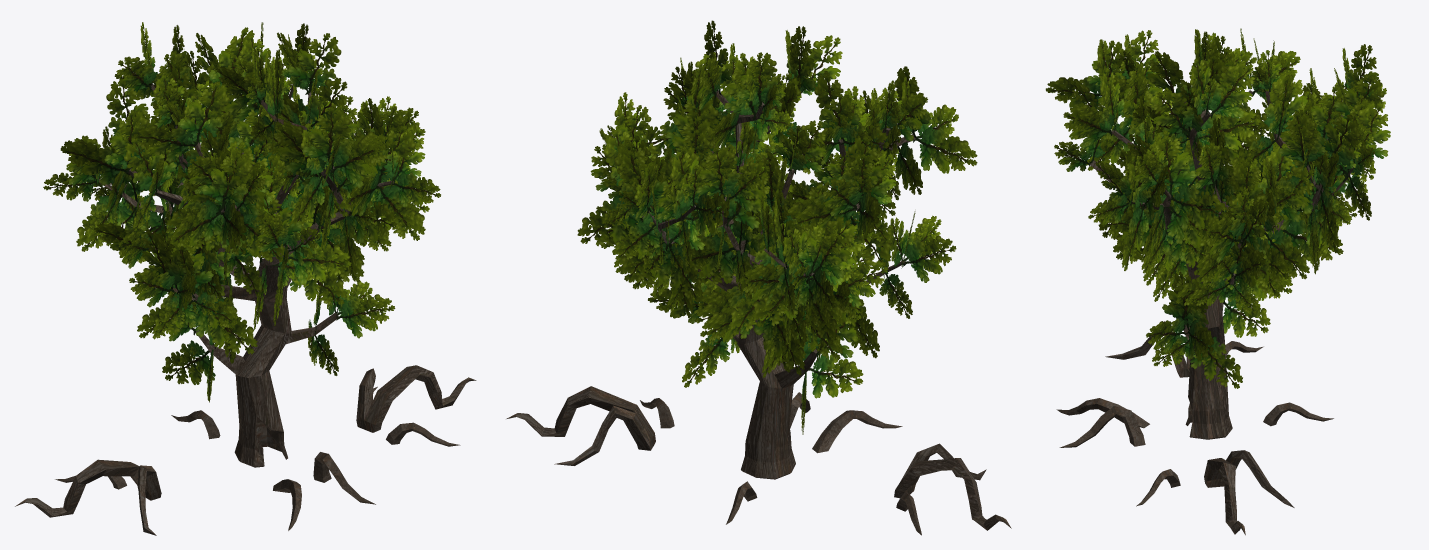
The model's file is oaktree.fbx.
3 renders of one model, left to right at view 1: azimuth 30°, elevation 25°; view 2: azimuth 150°, elevation 25°; view 3: azimuth 270°, elevation 25°, orthographic. The views are drawn at different scales.
Visible parts, largest first — view 1: OakTree; view 2: OakTree; view 3: OakTree.
Part boxes in pixels (x1,y1,x2,y2): OakTree: (15,22,476,535); OakTree: (506,20,1011,535); OakTree: (1045,28,1390,535).
Bounding box in the file's own units: 3263 × 2786 × 2304.
Materials: 2 (2 with a texture image).
